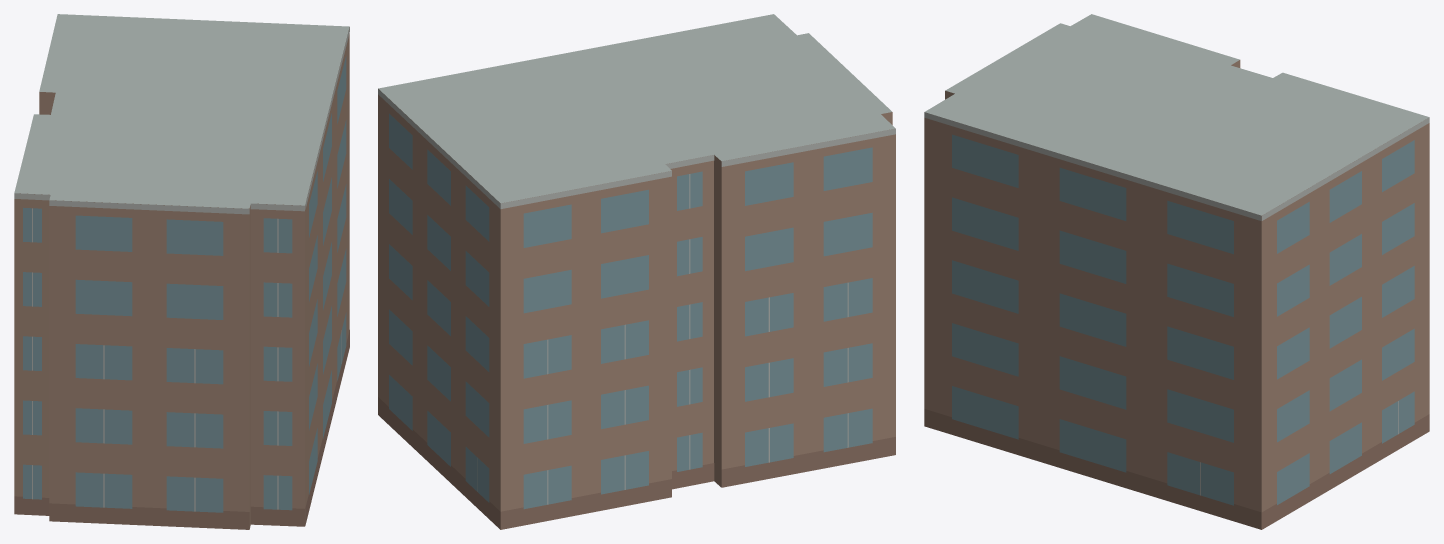
The model's file is survey-upis-32964488.glb.
3 views of the same model, side by side, from view 1: azimuth 30°, elevation 25°; view 2: azimuth 150°, elevation 25°; view 3: azimuth 270°, elevation 25° (orthographic). The views are drawn at different scales.
Parts seen in each view (by area): view 1: survey-upis-32964488.tmp; view 2: survey-upis-32964488.tmp; view 3: survey-upis-32964488.tmp.
Part boxes in pixels (<box>): survey-upis-32964488.tmp: <box>14,14,349,529</box>; survey-upis-32964488.tmp: <box>378,14,895,529</box>; survey-upis-32964488.tmp: <box>924,14,1429,529</box>.
Bounding box in the file's own units: 18.93 × 13.75 × 20.05.
